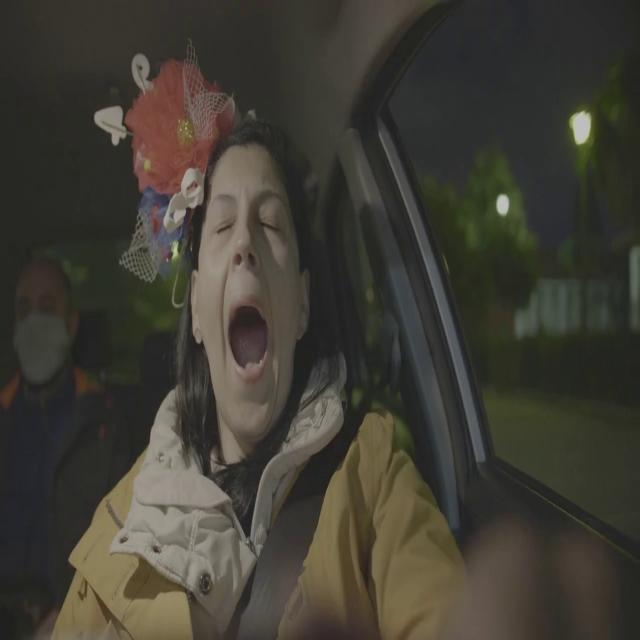open-mouth: (225, 290, 272, 386)
